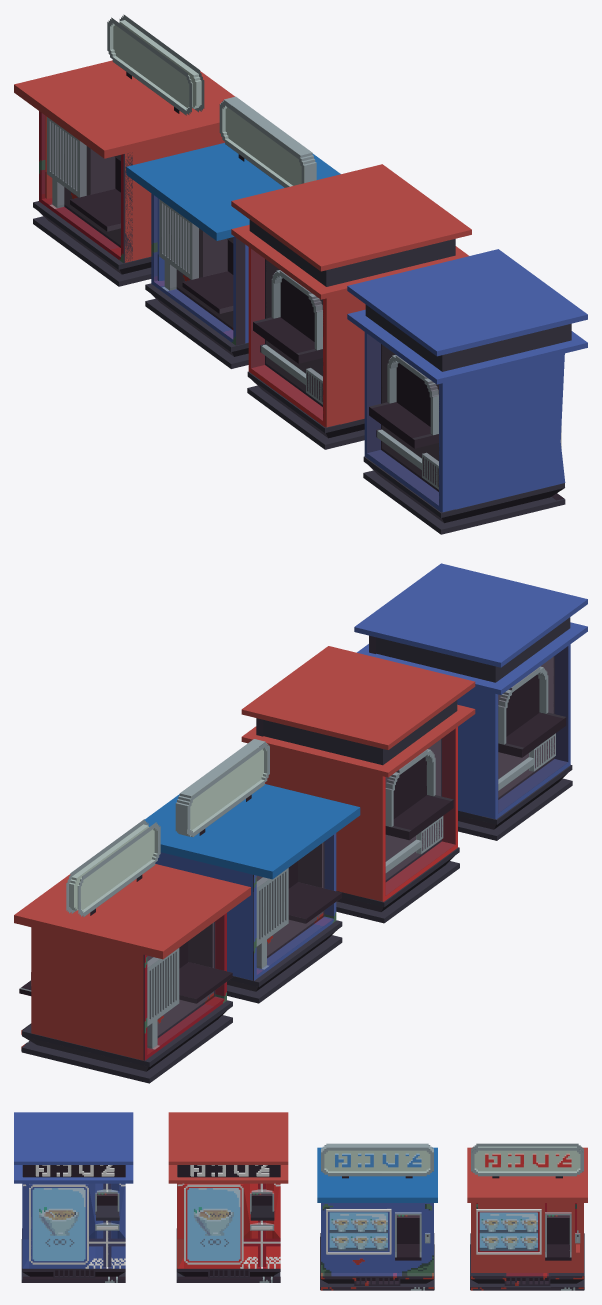
File: VENDINGMachine.fbx
The picture shows the model from 3 angles, top to bottom: view 1: azimuth 30°, elevation 25°; view 2: azimuth 150°, elevation 25°; view 3: azimuth 270°, elevation 25°; orthographic projection. The views are drawn at different scales.
Parts seen in each view (by area): view 1: VendingMachineBiruUpgrade, VendingMachineMerahUpgrade, VendingJelekeMerah, VendingJelekBiru; view 2: VendingJelekeMerah, VendingMachineMerahUpgrade, VendingMachineBiruUpgrade, VendingJelekBiru; view 3: VendingMachineMerahUpgrade, VendingMachineBiruUpgrade, VendingJelekBiru, VendingJelekeMerah.
Boxes of the visible parts, x1,y1,x2,y2 form: VendingMachineBiruUpgrade: [347, 249, 587, 534]; VendingMachineMerahUpgrade: [231, 164, 471, 449]; VendingJelekeMerah: [14, 14, 234, 286]; VendingJelekBiru: [126, 96, 340, 368]; VendingJelekeMerah: [14, 819, 250, 1083]; VendingMachineMerahUpgrade: [241, 646, 475, 923]; VendingMachineBiruUpgrade: [354, 563, 587, 840]; VendingJelekBiru: [144, 739, 360, 1003]; VendingMachineMerahUpgrade: [168, 1112, 288, 1282]; VendingMachineBiruUpgrade: [14, 1112, 133, 1282]; VendingJelekBiru: [317, 1143, 437, 1290]; VendingJelekeMerah: [467, 1143, 587, 1290].
Size of the model in its own units: 318 by 349 by 1416.
